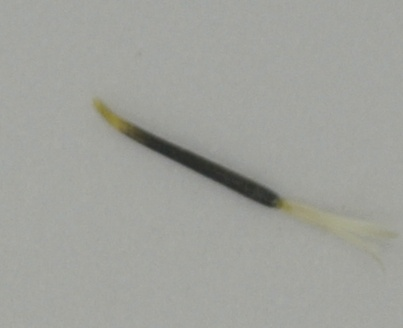เมล็ดดีเรียวยาว: (95, 98, 394, 263)
